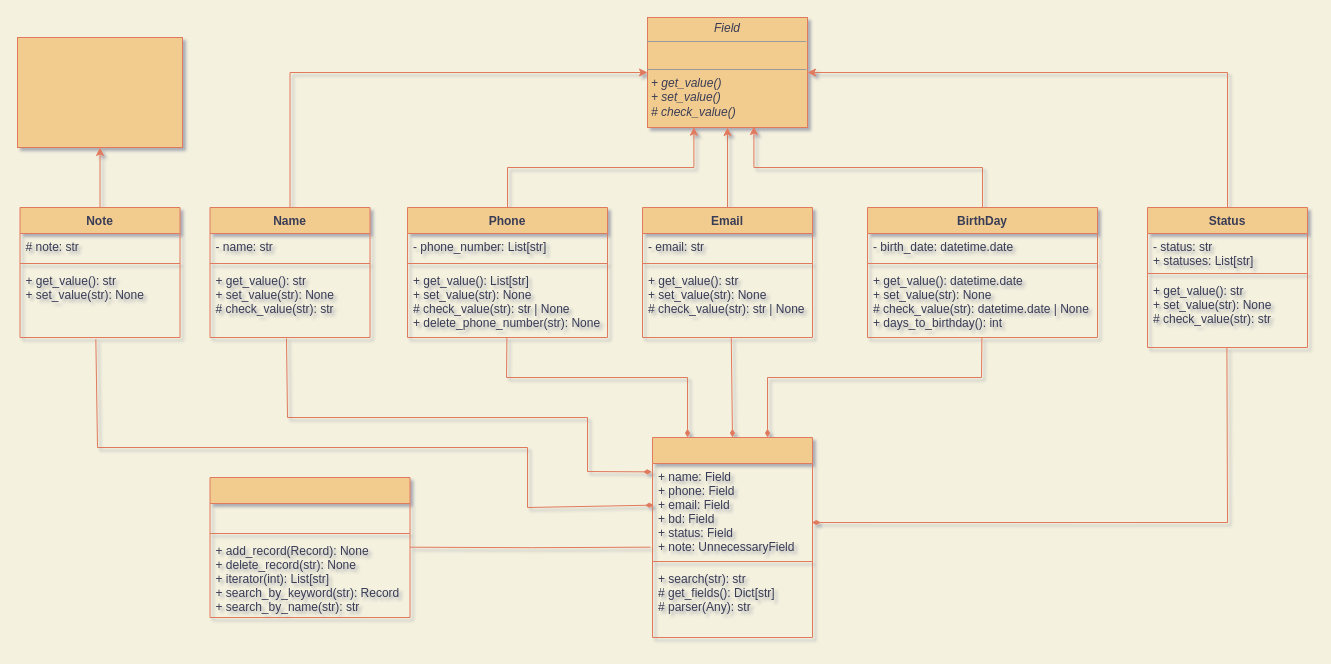
Some shapes in this 1331 by 664 pixel diagram are drawn without their labels. Here are the shapes that lost their labels. From the top down, the box of each, then its label:
(16, 36, 182, 148): UnnecessaryField + get_value() + set_value()
(209, 476, 410, 618): AddressBook
(652, 436, 812, 638): Record
